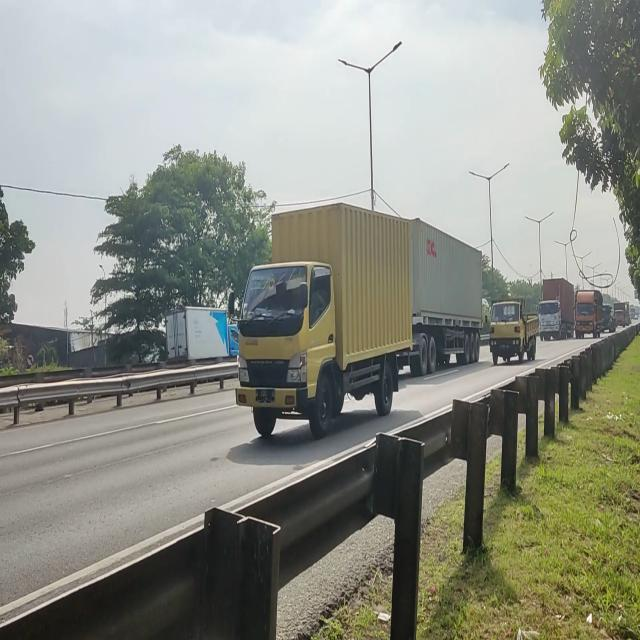Golongan II: (233, 206, 412, 441), (487, 288, 541, 371)
